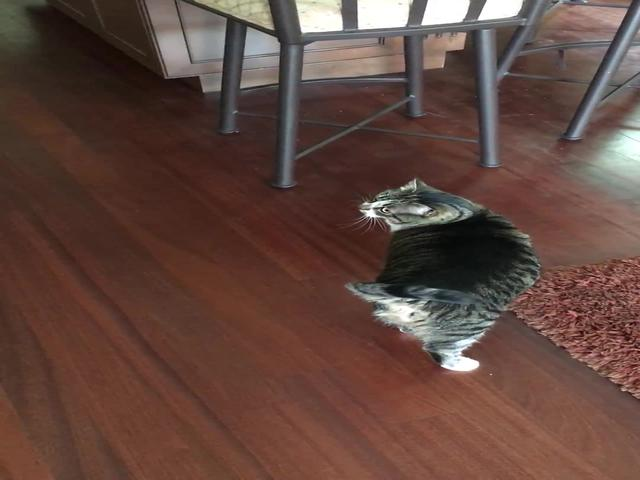playdoh: (340, 175, 541, 375)
